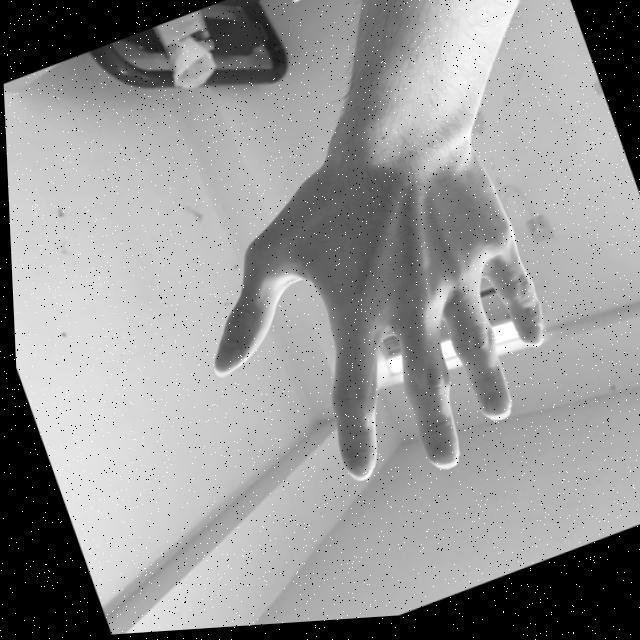no-gloves: (161, 128, 583, 546)
